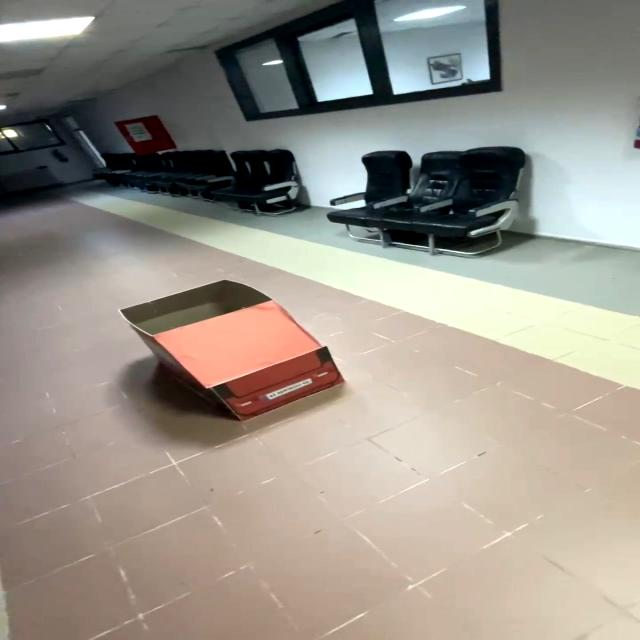red_car: (94, 266, 381, 444)
